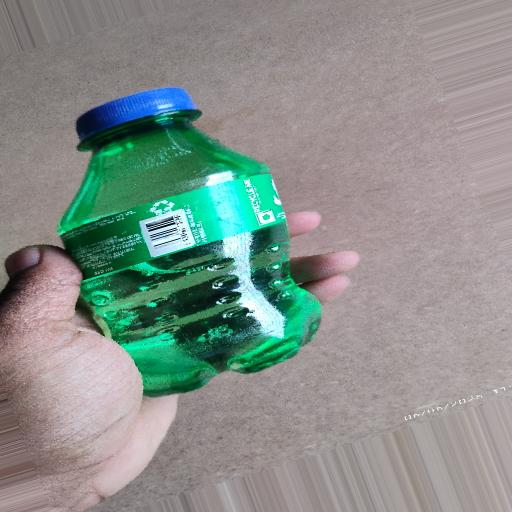Sprite: (29, 42, 352, 409)
